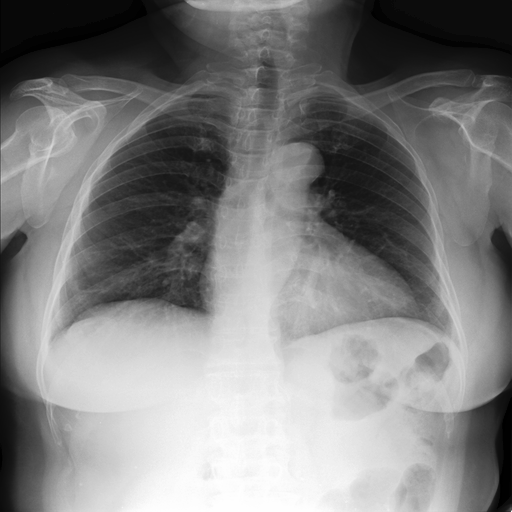Consolidation: (269, 143, 325, 194)
Nodule/Mass: (200, 246, 419, 318)
